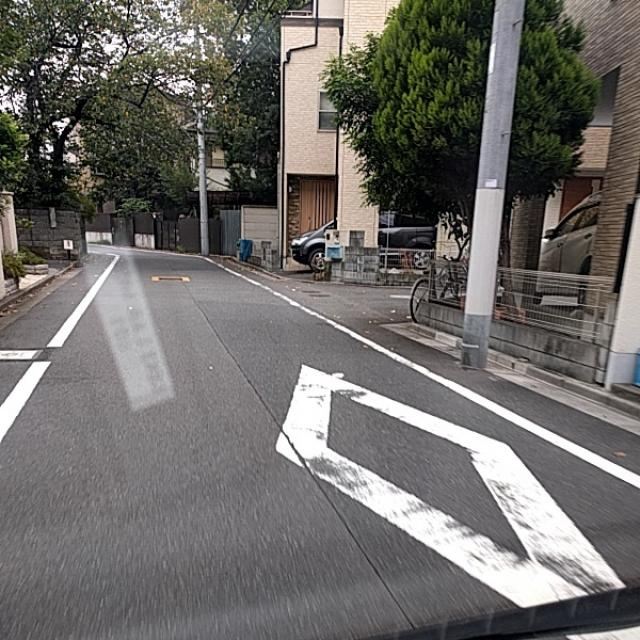pothole: (257, 416, 345, 500)
